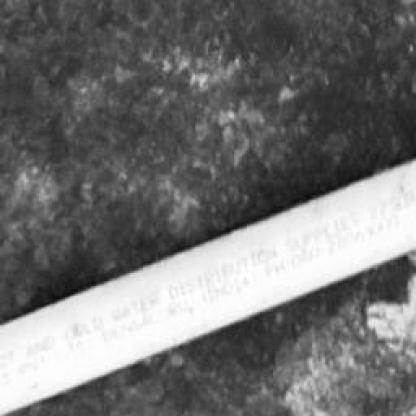PVC: (1, 159, 414, 414)
